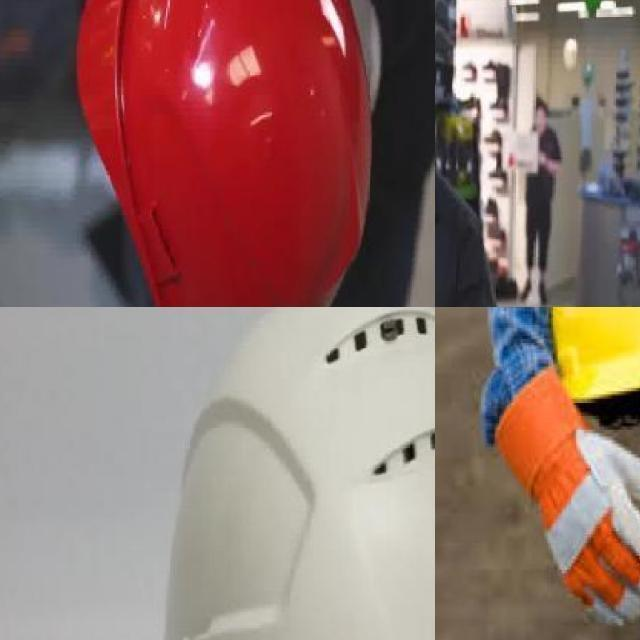apron: (491, 375, 640, 639)
